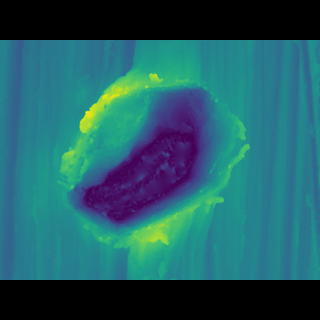Loch: (49, 88, 254, 230)
